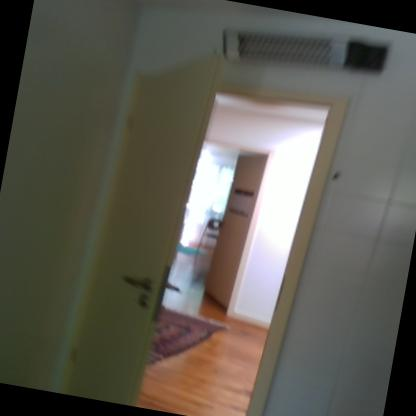semi: (52, 32, 362, 415)
